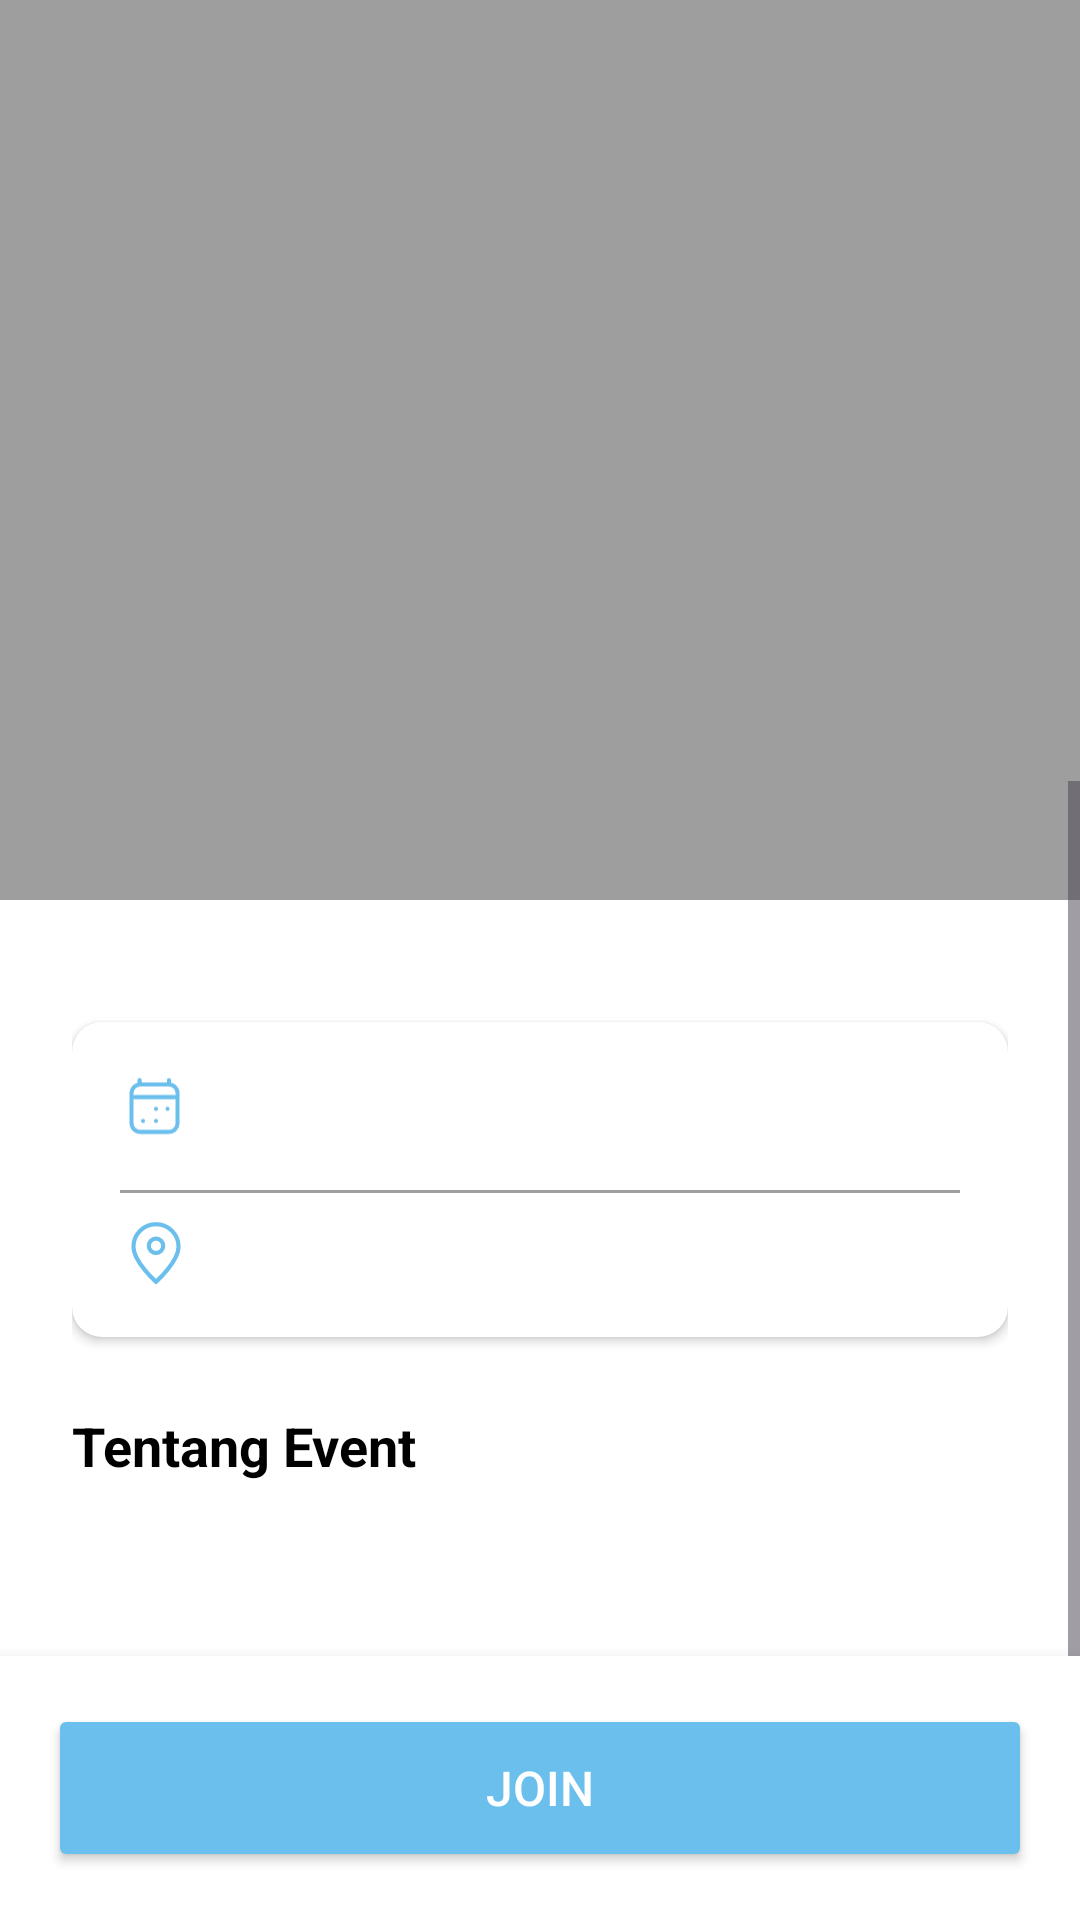

Icons on this 1080 × 1920 Android screen, each with the point to tap as [x,y]:
Date: [154,1106]
Location: [156,1253]
